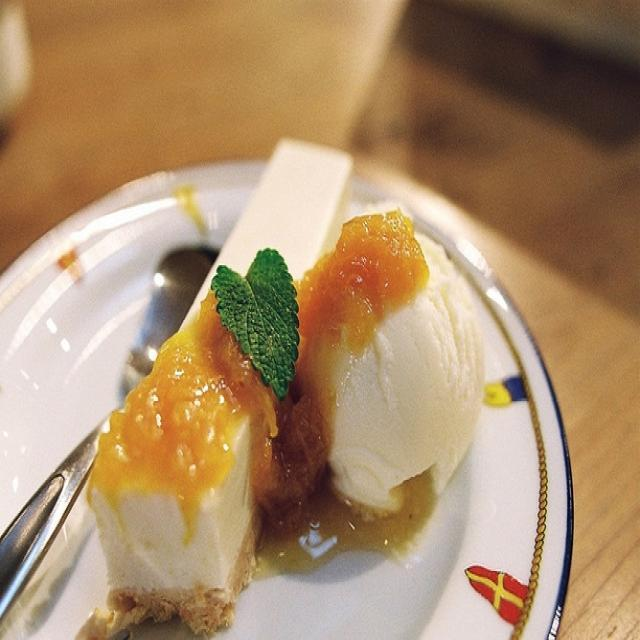Cookie: (327, 221, 492, 530)
Rare cheese cake: (71, 126, 347, 618)
